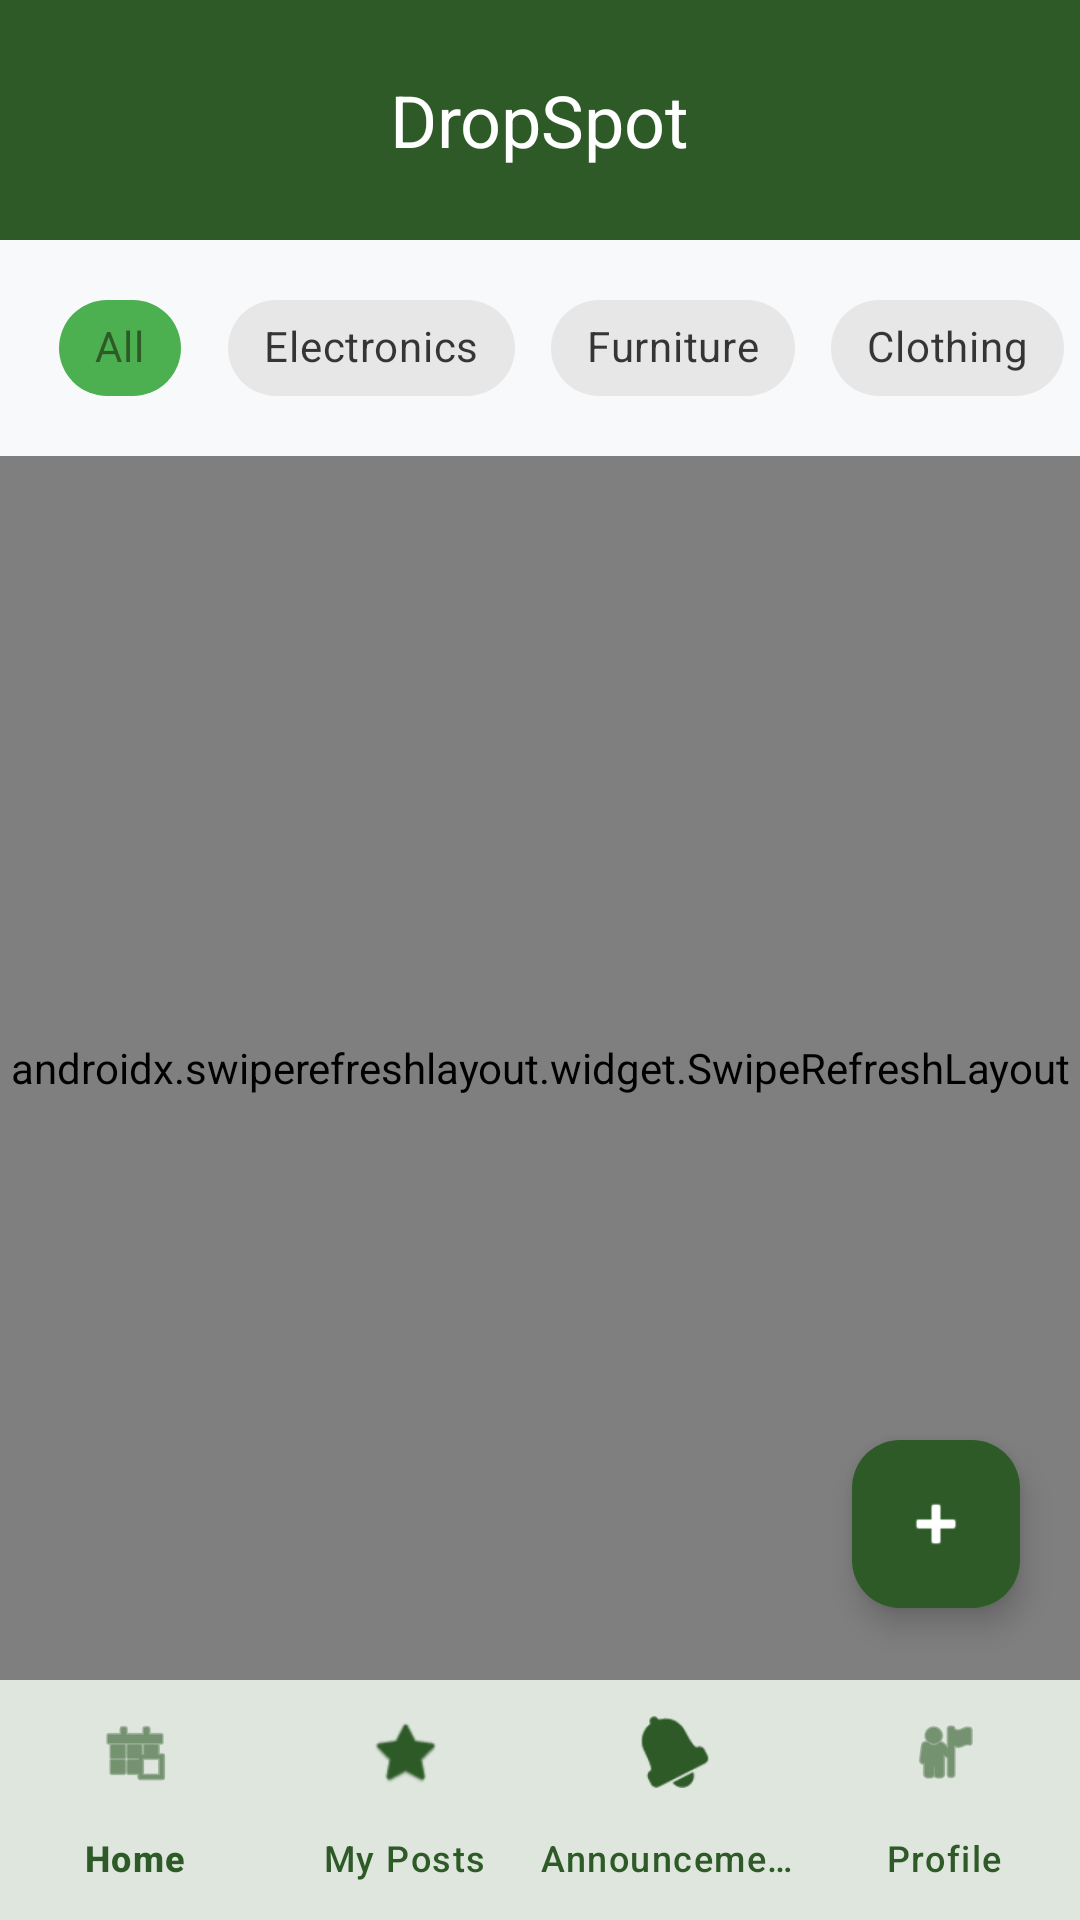

Point at icon controls on the screen. Image size 1080x1920, points as point (x, y).
Post Item: point (936, 1524)
